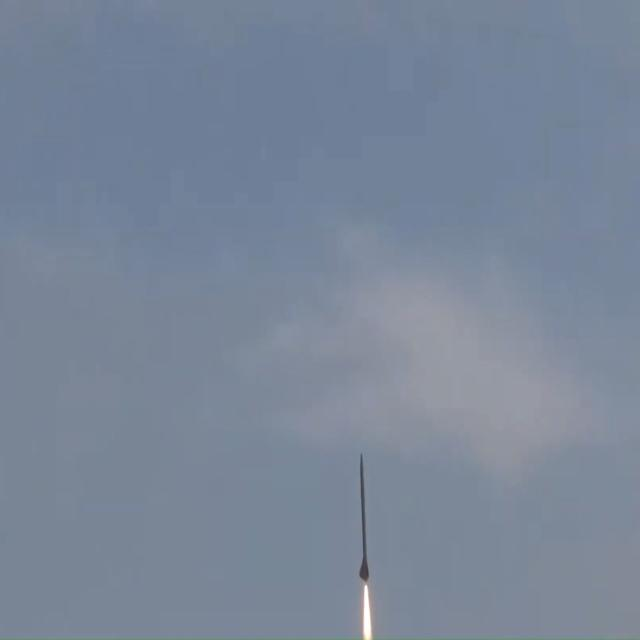Rocket: (357, 451, 369, 586)
